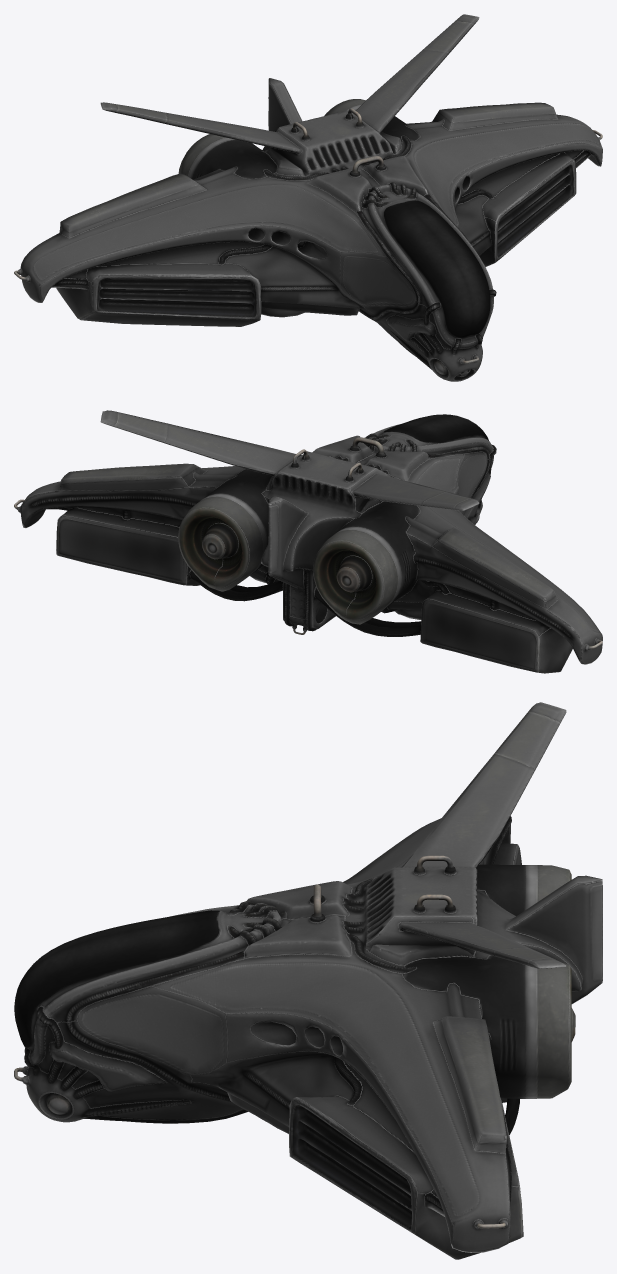
3 renders of one model, top to bottom at view 1: azimuth 30°, elevation 25°; view 2: azimuth 150°, elevation 25°; view 3: azimuth 270°, elevation 25°, orthographic. The views are drawn at different scales.
Parts seen in each view (by area): view 1: RetopoGroup2; view 2: RetopoGroup2; view 3: RetopoGroup2.
Boxes of the visible parts, <box> form: RetopoGroup2: <box>14,14,602,381</box>; RetopoGroup2: <box>14,410,602,673</box>; RetopoGroup2: <box>14,702,602,1259</box>.
Size of the model in its own units: 9.55 by 3.1 by 5.78.
1 material, 1 textured.
